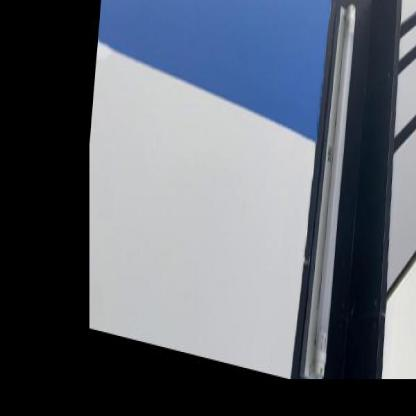light_off: (288, 0, 373, 391)
